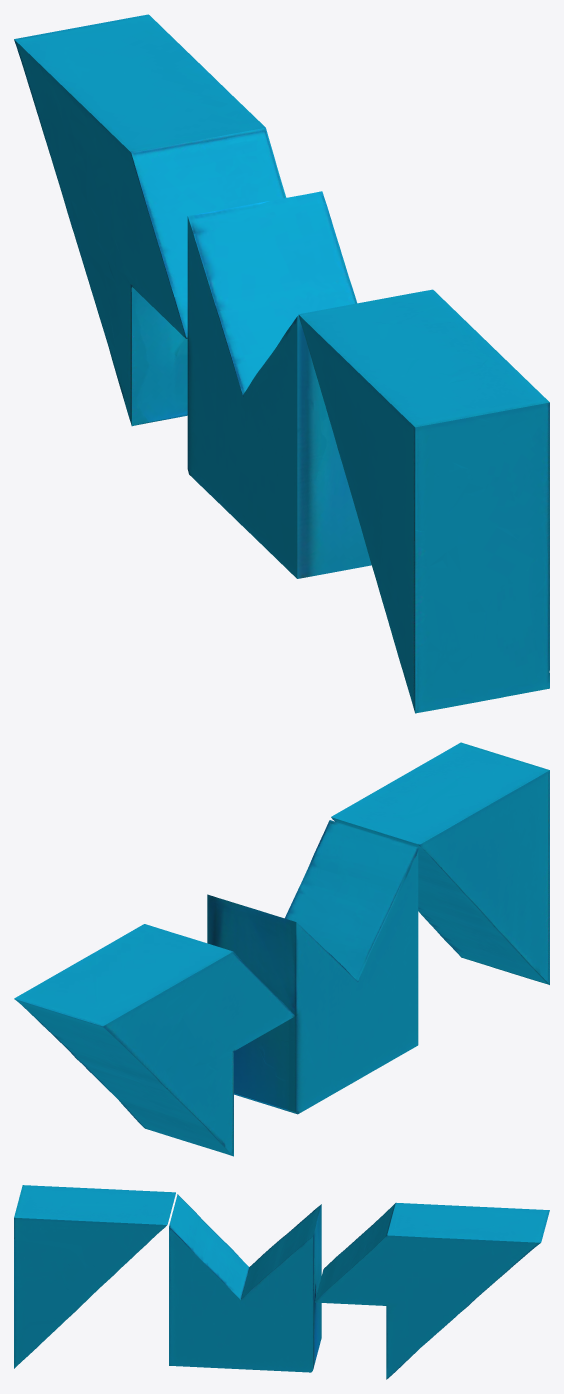
The model's file is optimized-room.glb.
3 renders of one model, top to bottom at view 1: azimuth 30°, elevation 25°; view 2: azimuth 150°, elevation 25°; view 3: azimuth 270°, elevation 25°, orthographic. The views are drawn at different scales.
Parts seen in each view (by area): view 1: tripo_node_08754a30-6dac-432c-a5a4-376ac32ba8b7; view 2: tripo_node_08754a30-6dac-432c-a5a4-376ac32ba8b7; view 3: tripo_node_08754a30-6dac-432c-a5a4-376ac32ba8b7.
Part boxes in pixels (x1,y1,x2,y2): tripo_node_08754a30-6dac-432c-a5a4-376ac32ba8b7: (14, 14, 549, 713); tripo_node_08754a30-6dac-432c-a5a4-376ac32ba8b7: (14, 742, 549, 1156); tripo_node_08754a30-6dac-432c-a5a4-376ac32ba8b7: (14, 1185, 549, 1379).
Size of the model in its own units: 0.2546 by 0.3119 by 1.
1 material, 1 textured.
